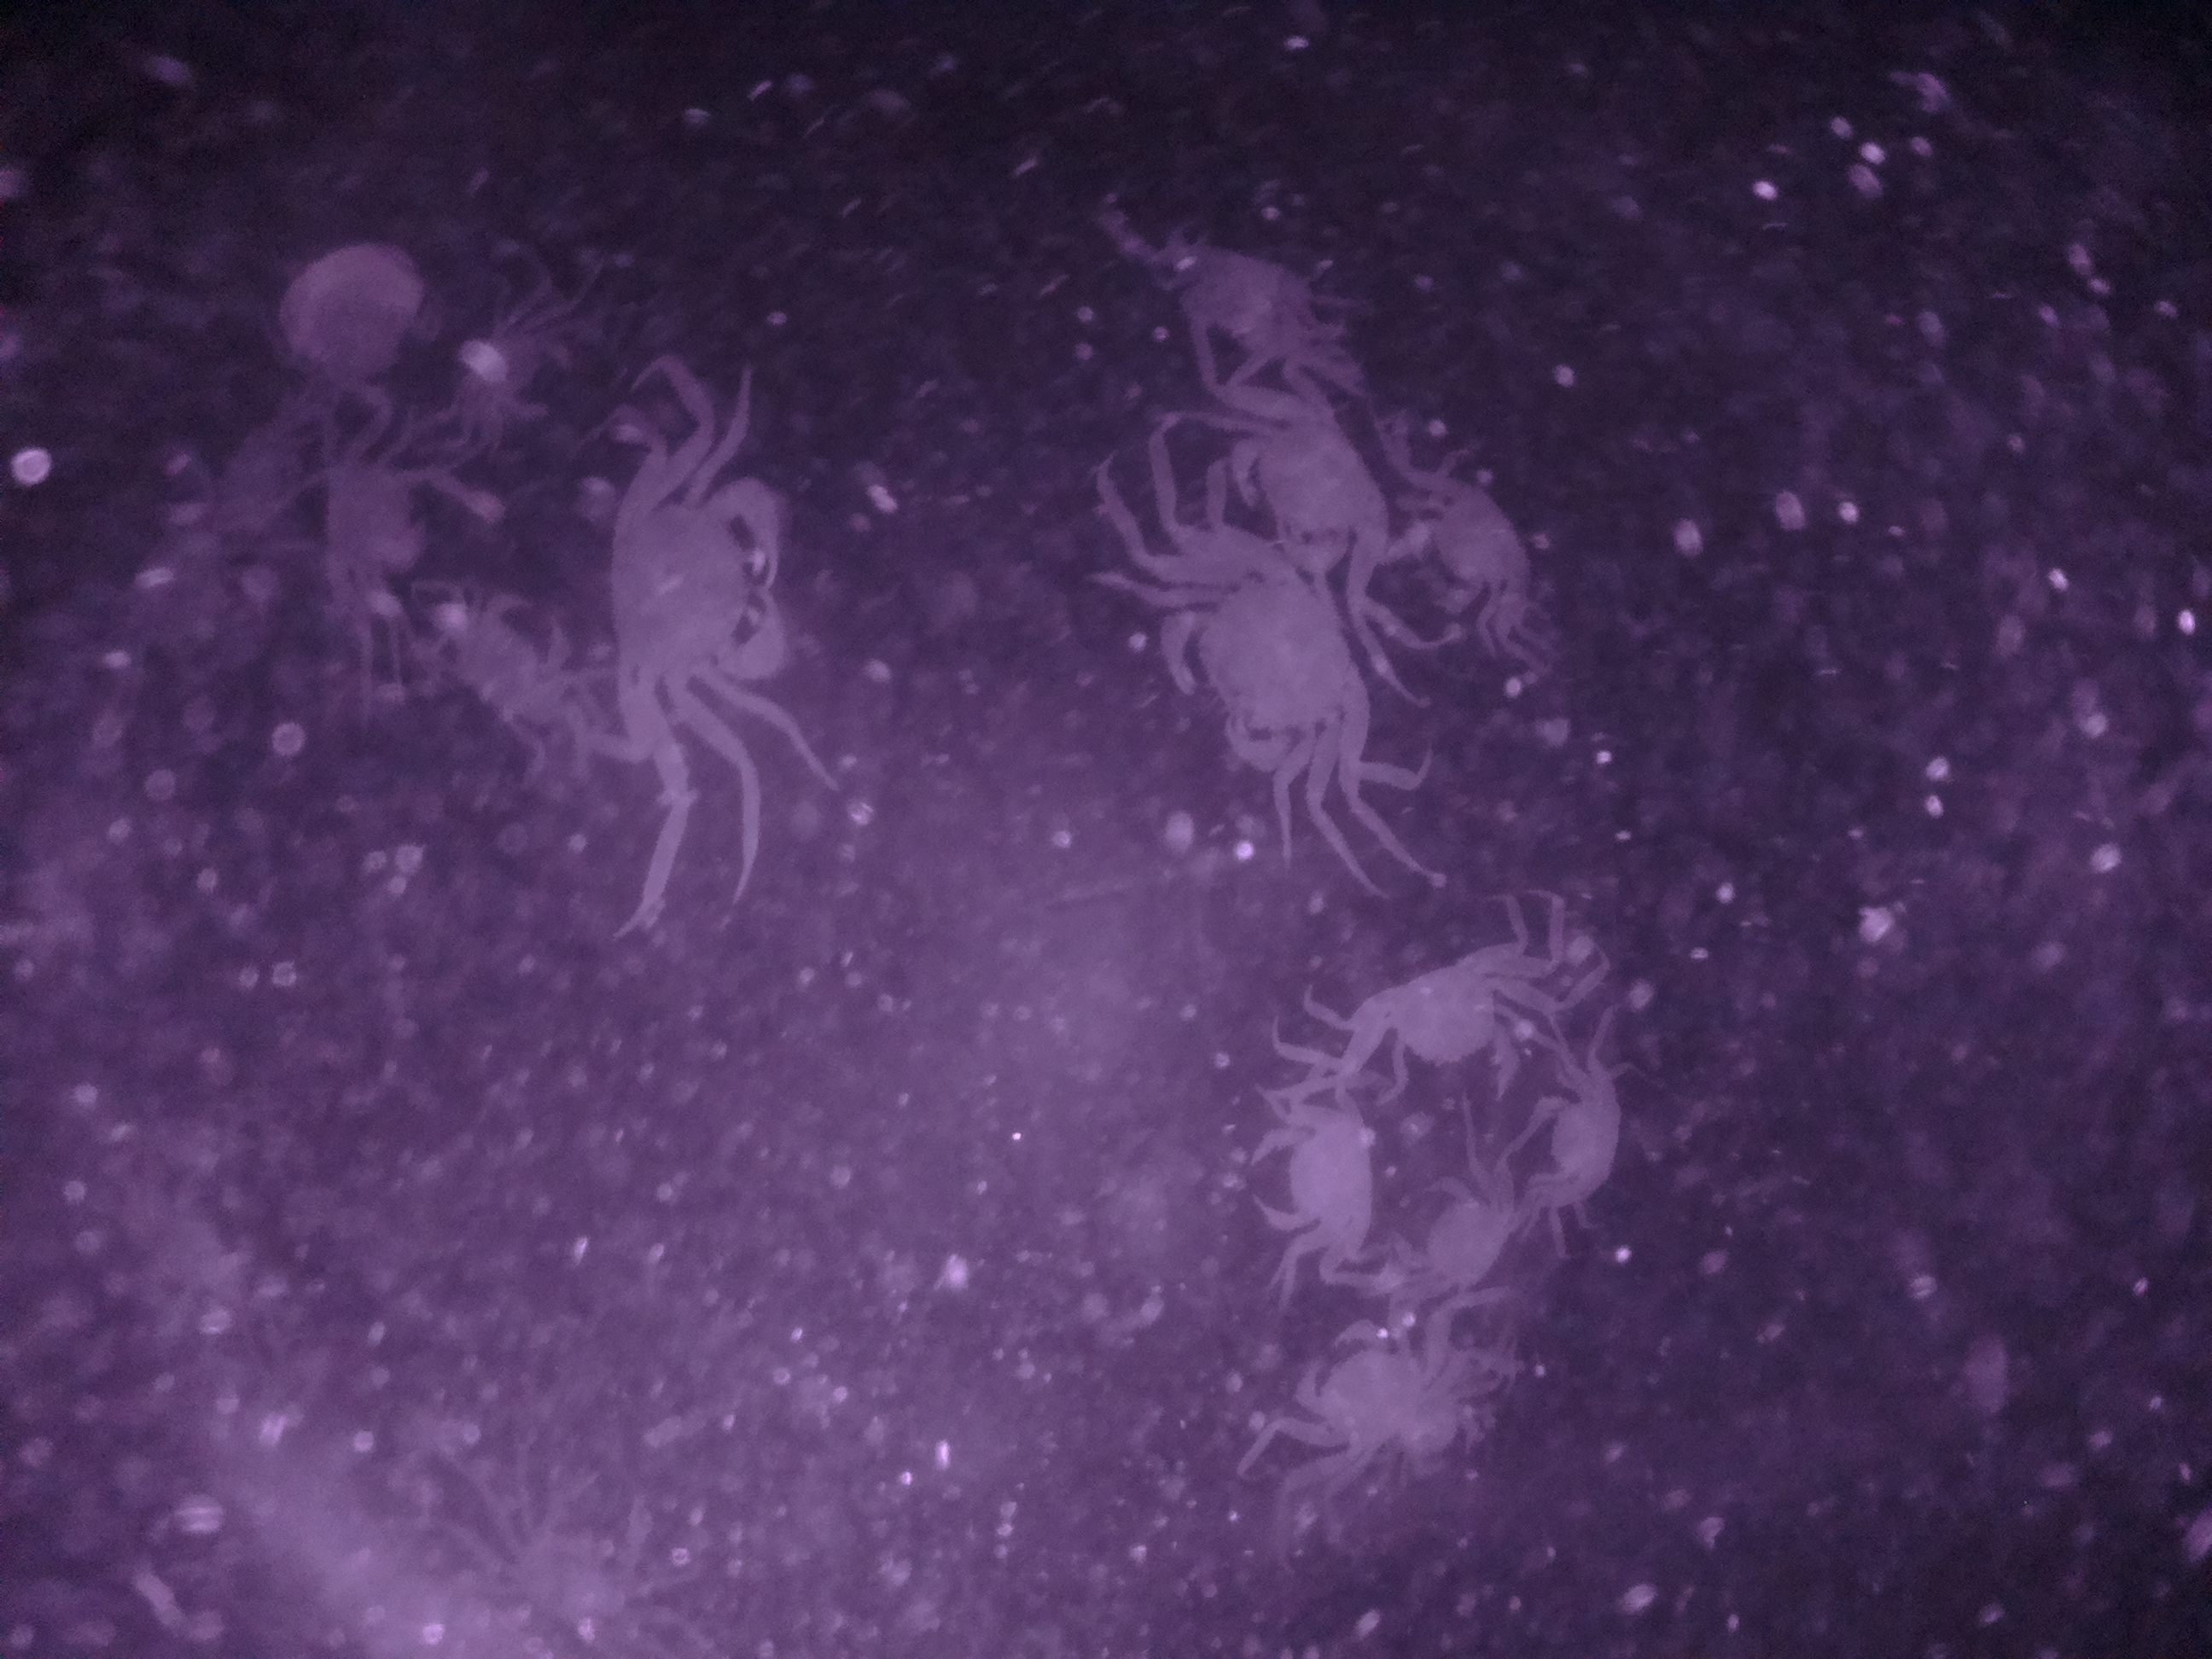Crab: (587, 467, 817, 725), (1150, 532, 1371, 793), (1341, 953, 1534, 1108), (1289, 1307, 1440, 1476), (1231, 1103, 1397, 1256), (1388, 1164, 1533, 1319), (1406, 476, 1550, 626), (1524, 1054, 1616, 1253)
